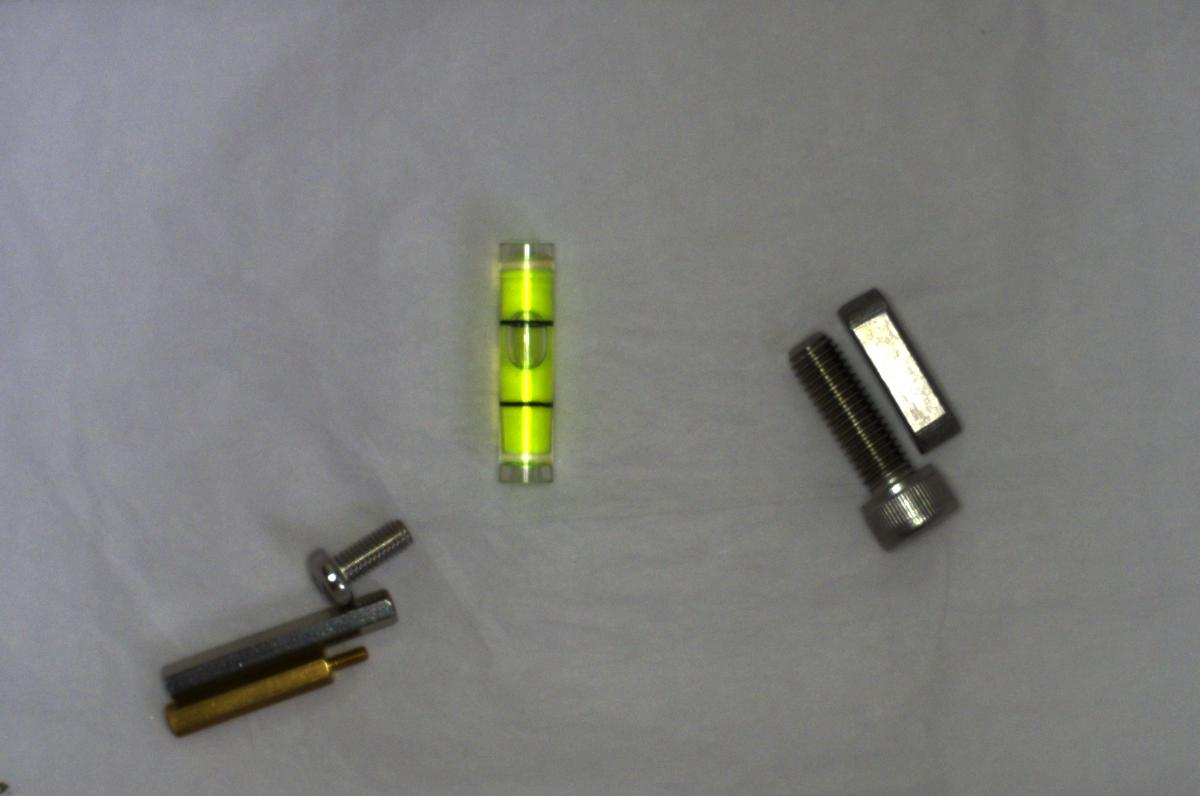Double hexagonal column: (141, 587, 412, 693)
Hexagon pillar: (146, 645, 372, 738)
Hexagon screw: (781, 326, 960, 555)
Horizontal bubble: (475, 232, 573, 493)
Keybar: (838, 280, 972, 459)
Round head screw: (305, 512, 411, 607)
